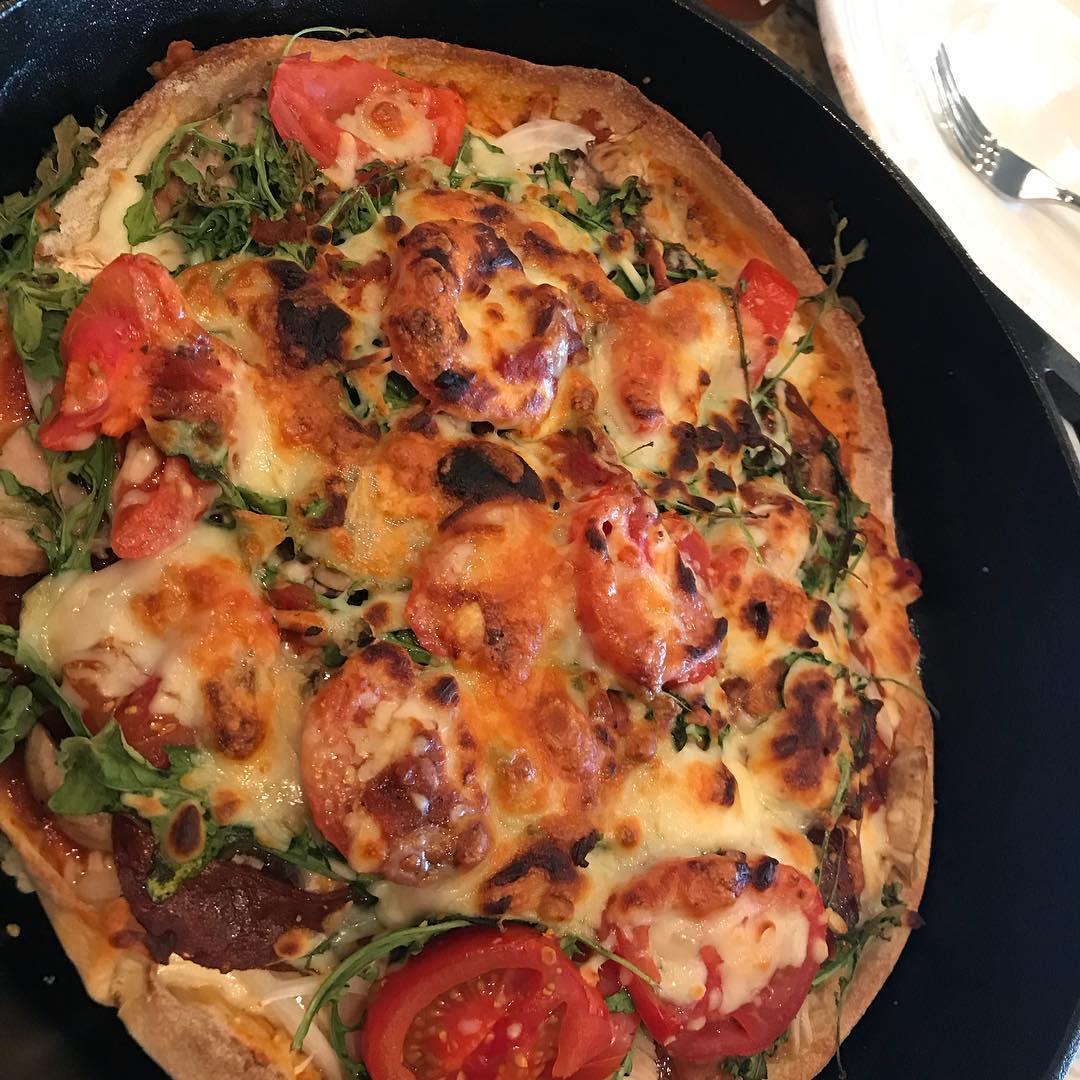Basil: (743, 395, 869, 586), (125, 119, 301, 250), (5, 661, 141, 816), (553, 159, 686, 296), (817, 653, 874, 906), (1, 195, 68, 381), (25, 433, 101, 565)
Pepperoni: (115, 805, 356, 975)
Pizza: (0, 26, 936, 1080)
Tomatoes: (289, 629, 498, 885), (613, 855, 824, 1064), (393, 217, 569, 437), (369, 933, 613, 1080), (581, 493, 741, 692), (409, 501, 570, 689), (265, 43, 472, 185), (41, 261, 196, 444), (107, 437, 214, 556), (721, 257, 792, 374)
